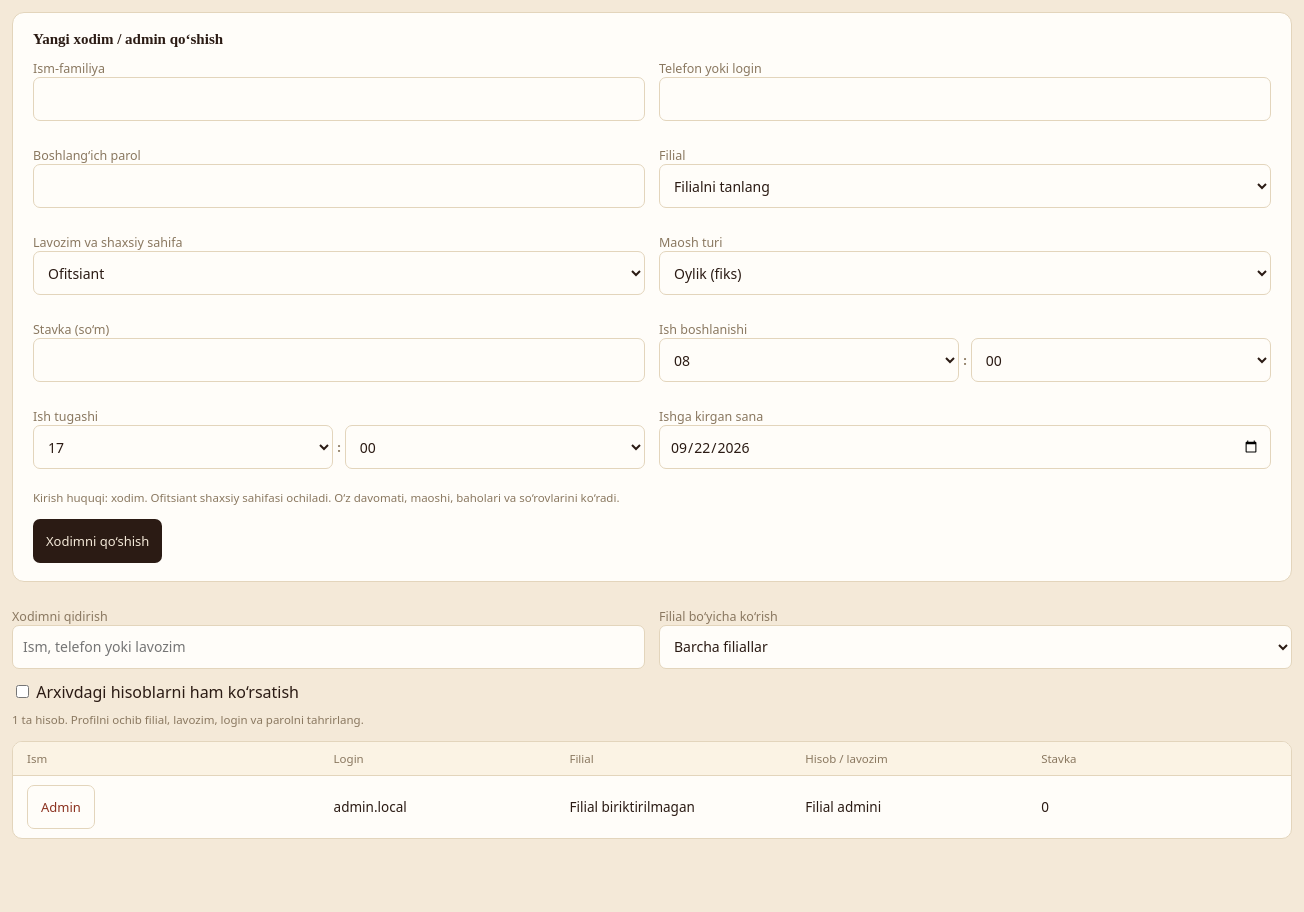
Test: offers permanent deletion for an account whose branch was deleted, and keeps it on server failure
Click the button "Admin". click: (61, 807)
box: [27,785,95,829]
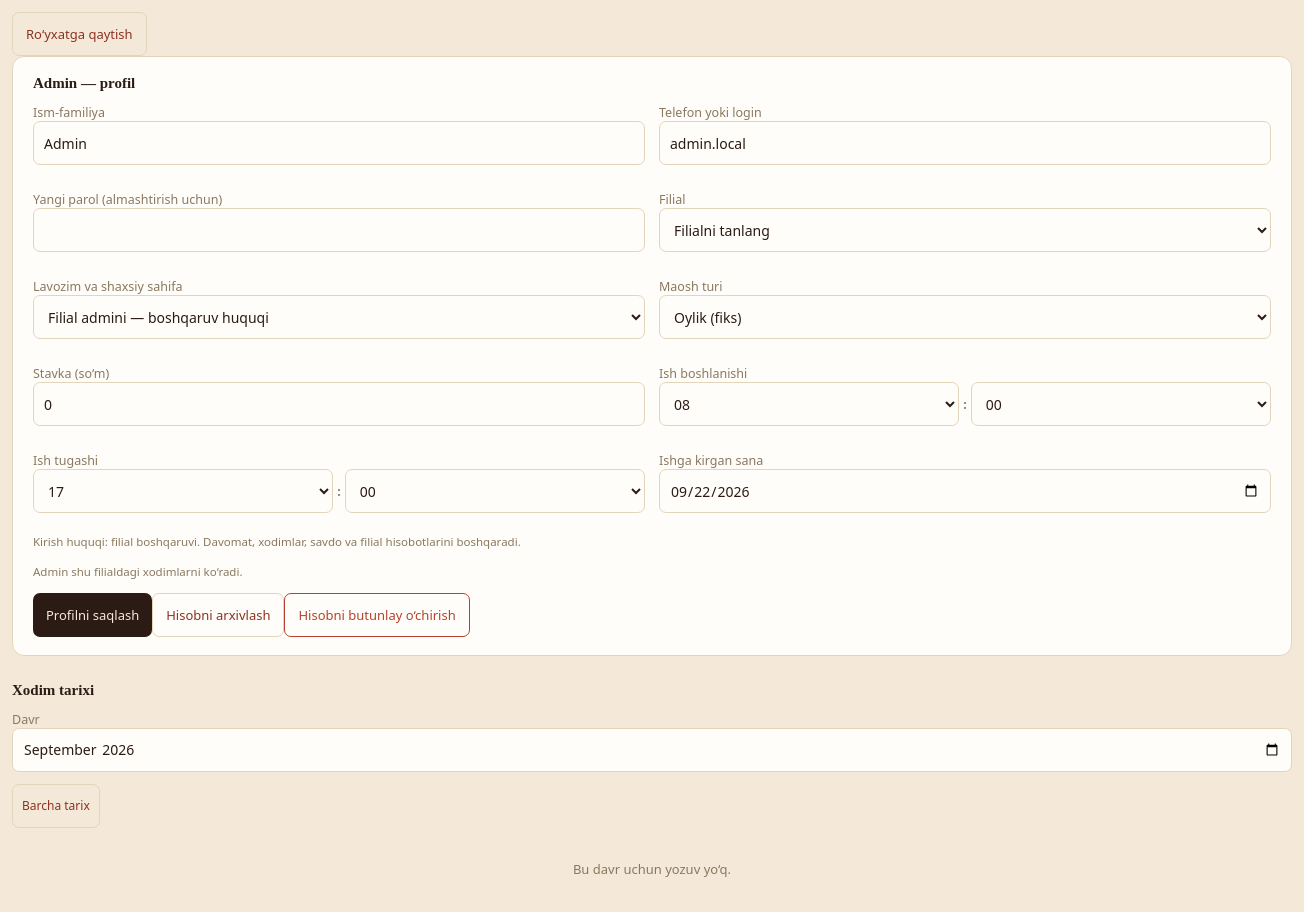
Click the button "Hisobni butunlay o‘chirish". click: (377, 615)
box: [284,593,470,637]
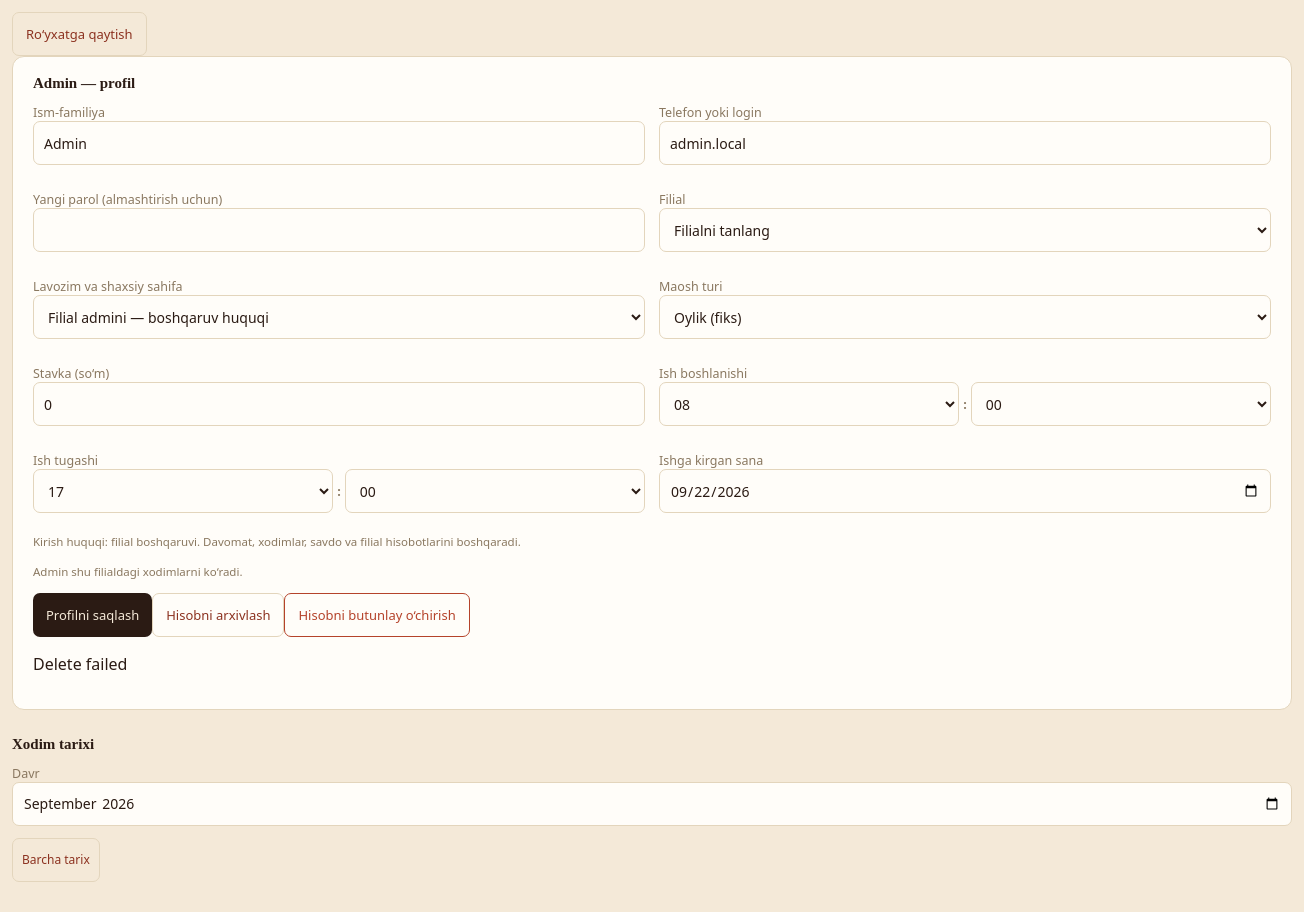
Now the button "Hisobni butunlay o‘chirish" is shown, box [284,593,470,637]
Now the text "Delete failed" is shown, box [33,653,127,675]
